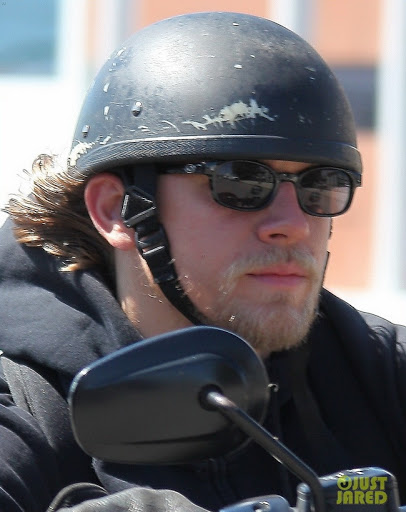helmet: (59, 9, 376, 203)
